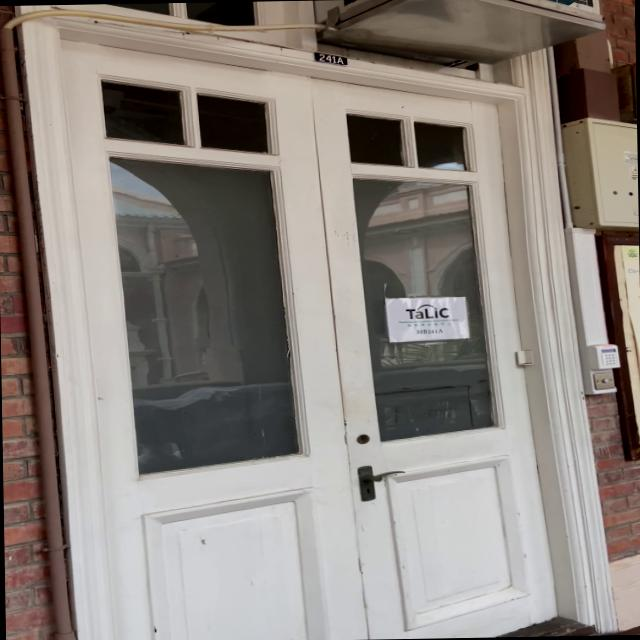room241a: (310, 50, 350, 68)
